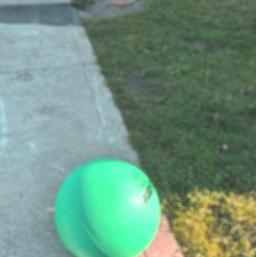algae: (55, 157, 162, 257)
